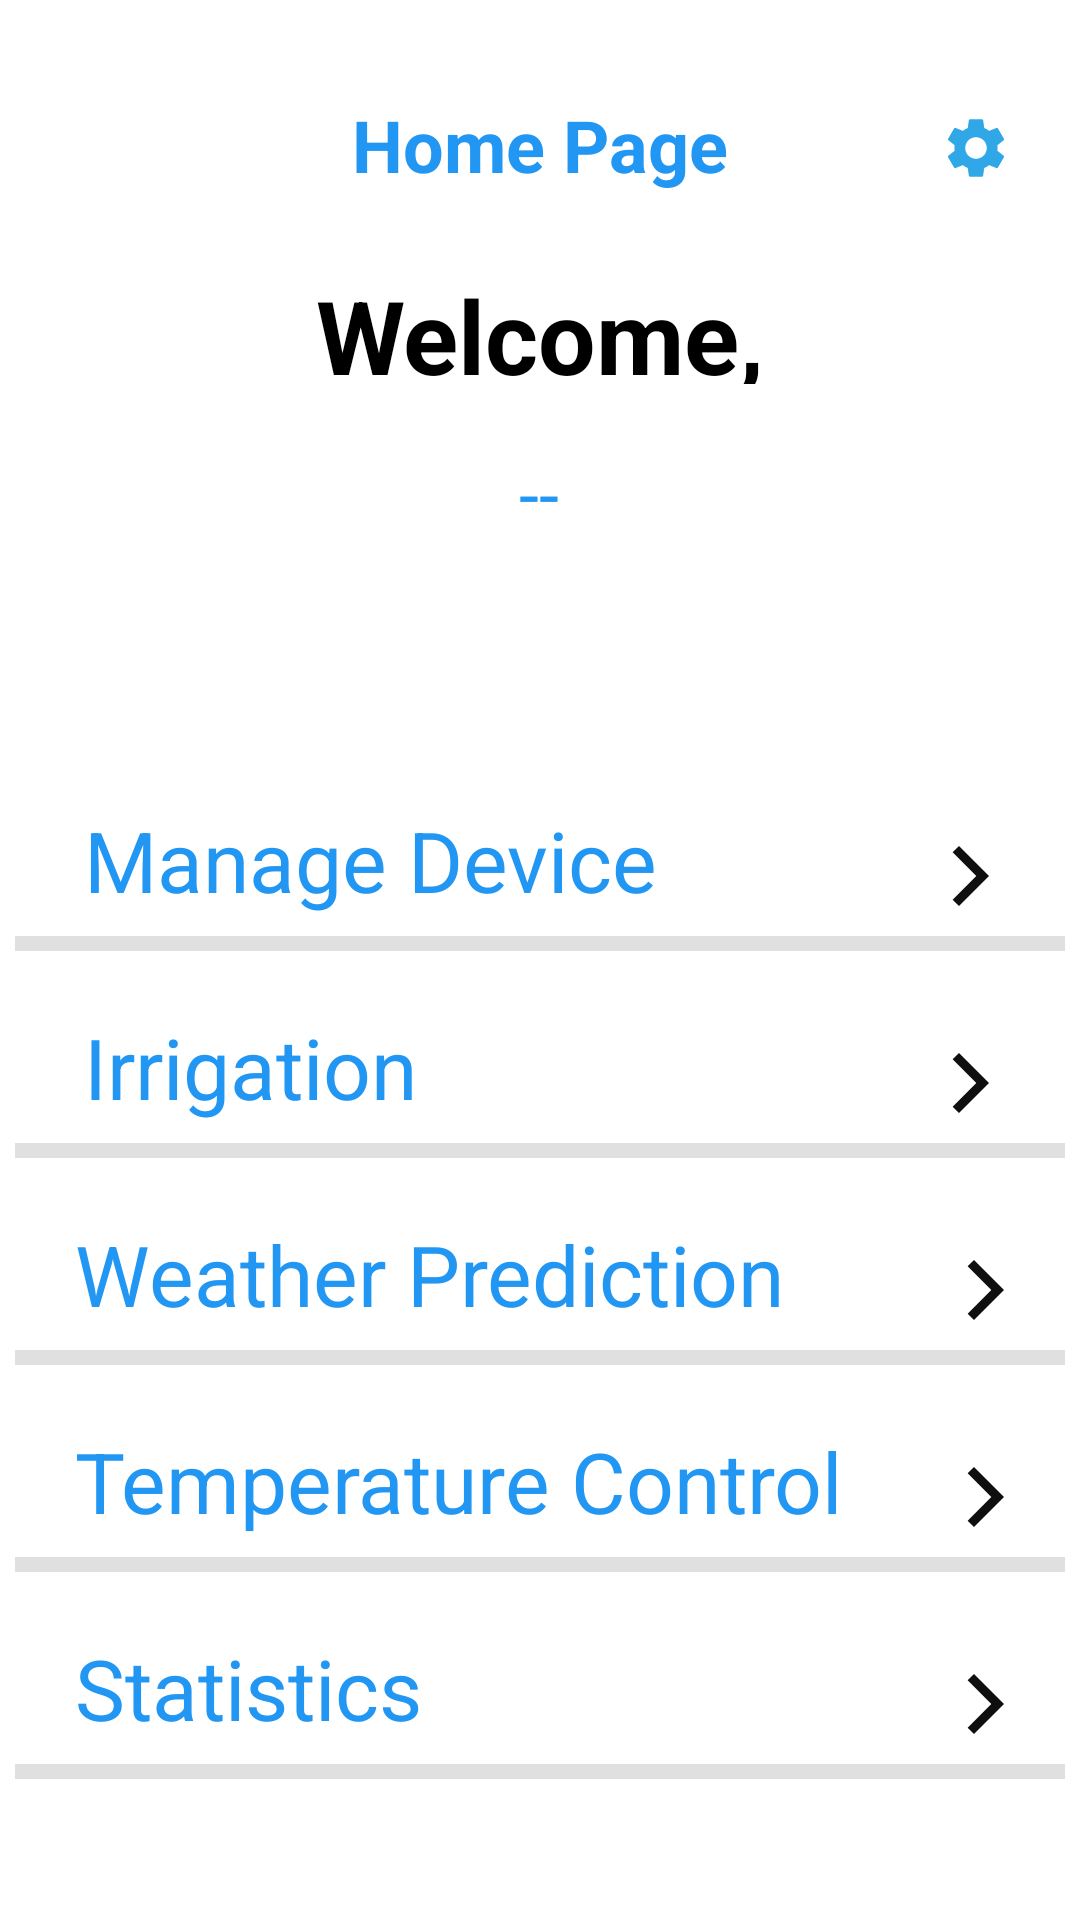

Where icons sit on this 1080w x 1920h app screen, as (x1, y1, x2, y2):
arrow forward: (952, 846, 989, 906), (952, 1053, 989, 1113), (967, 1260, 1004, 1320), (967, 1467, 1004, 1527), (967, 1674, 1004, 1734)
settings: (948, 119, 1004, 177)
